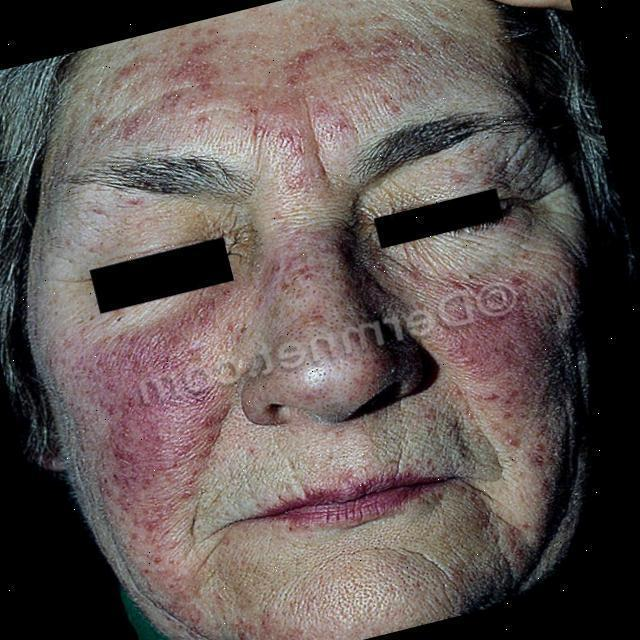skinredness: (29, 283, 321, 635), (438, 237, 595, 444)
